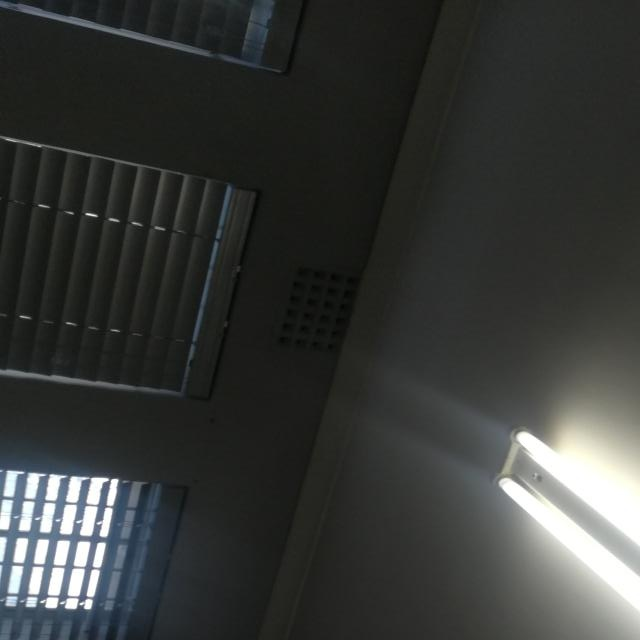fluorescent tube: (474, 417, 640, 640)
